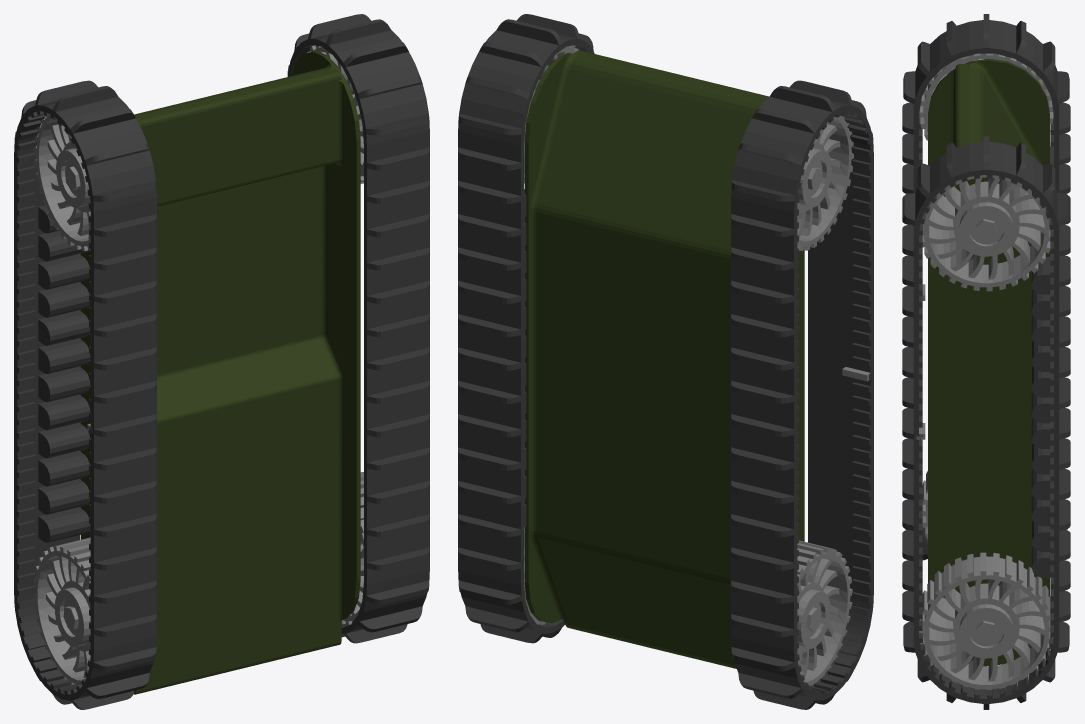
File: base_linkV3.dae
3 views of the same model, side by side, from view 1: azimuth 30°, elevation 25°; view 2: azimuth 150°, elevation 25°; view 3: azimuth 270°, elevation 25° (orthographic). The views are drawn at different scales.
Parts seen in each view (by area): view 1: node; view 2: node; view 3: node.
Part boxes in pixels (box(x1,y1,x2,y2)): node: box(14, 14, 429, 709); node: box(458, 14, 873, 709); node: box(902, 14, 1070, 709).
Bounding box in the file's own units: 0.4001 × 0.6899 × 0.19.
